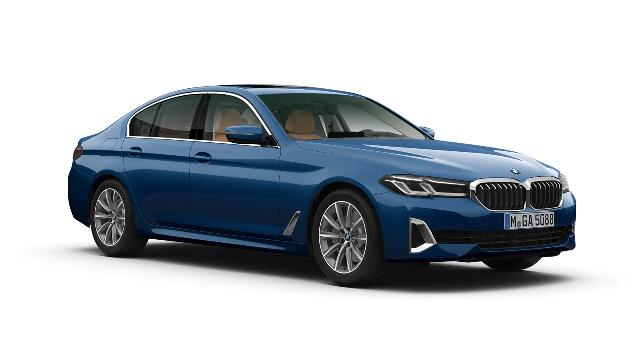bmw: (67, 84, 577, 286)
